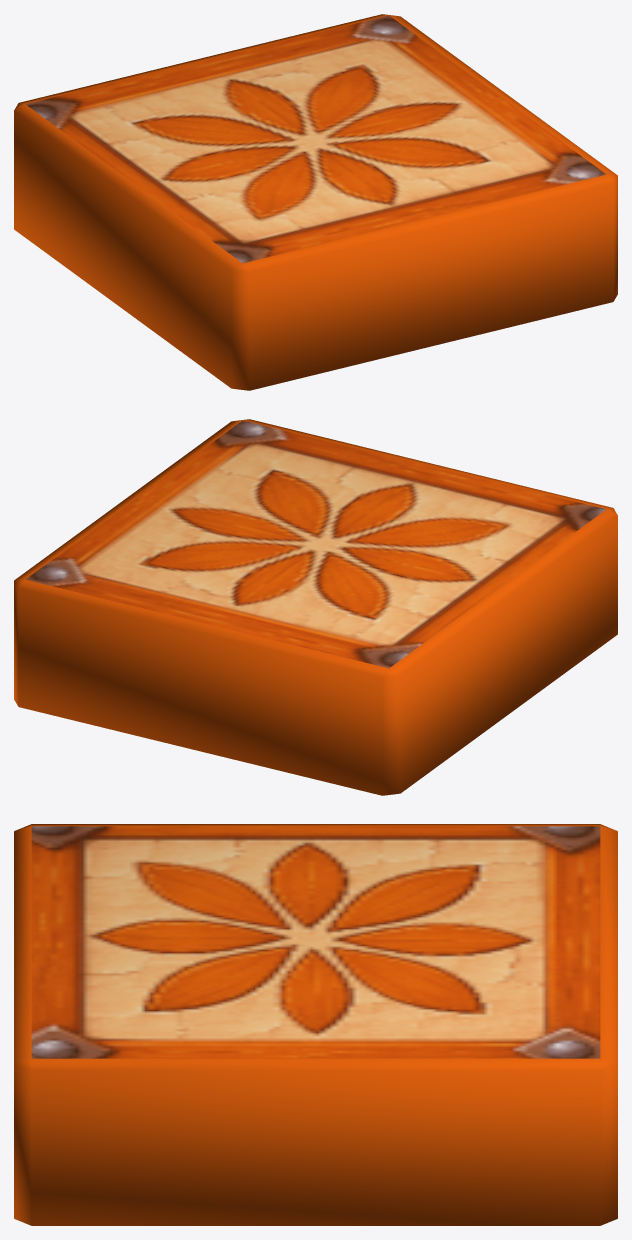
Rendered from Stone_Block.fbx.
3 views of the same model, one above another, from view 1: azimuth 30°, elevation 25°; view 2: azimuth 150°, elevation 25°; view 3: azimuth 270°, elevation 25° (orthographic). The views are drawn at different scales.
Visible parts, largest first — view 1: Stone_Block; view 2: Stone_Block; view 3: Stone_Block.
Boxes of the visible parts, <box> form: Stone_Block: <box>14,14,617,390</box>; Stone_Block: <box>14,419,617,795</box>; Stone_Block: <box>14,824,617,1225</box>.
Bounding box in the file's own units: 0.3413 × 0.1065 × 0.3533.
